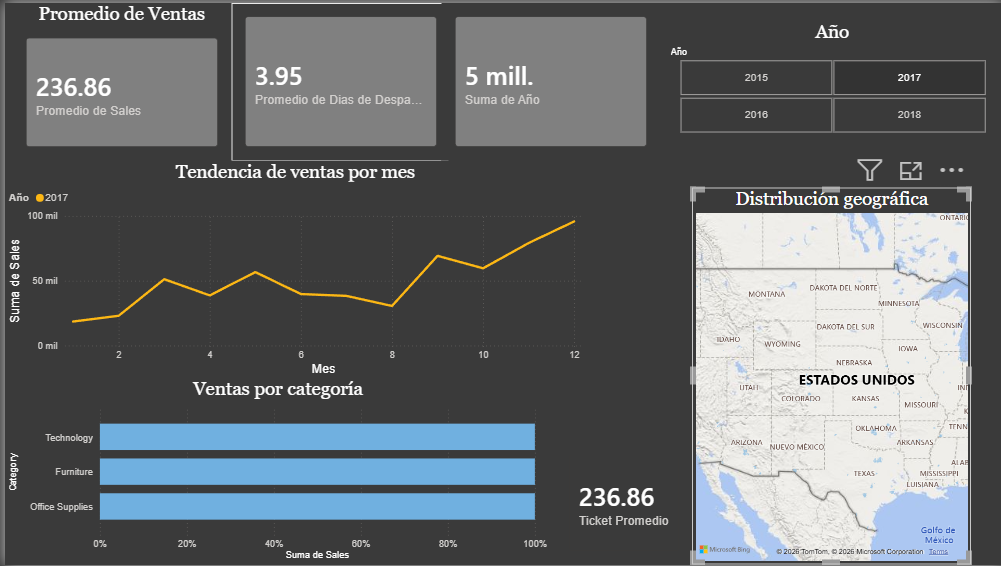

The page's visual inventory and layout, read from the dashboard file:
{"tool":"powerbi","page":{"name":"Página 1","canvas":[1280,720],"ordinal":0},"visuals":[{"type":"cardVisual","title":"Promedio de Ventas ","fields":{"Data":["Avg(ventas_limpio.Sales)"]},"box":[10,0,280,201.7],"z":0},{"type":"cardVisual","fields":{"Data":["Avg(ventas_limpio.Dias de Despacho)"]},"box":[290,0,280,201.7],"z":1000},{"type":"cardVisual","fields":{"Data":["Sum(ventas_limpio.Año)"]},"box":[560,0,280,201.7],"z":2000},{"type":"lineChart","title":"Tendencia de ventas por mes","fields":{"Category":["ventas_limpio.Mes"],"Y":["Sum(ventas_limpio.Sales)"],"Series":["ventas_limpio.Año"]},"box":[0,202,744.4,279.9],"z":3000},{"type":"hundredPercentStackedBarChart","title":"Ventas por categoría","fields":{"Category":["ventas_limpio.Category"],"Y":["Sum(ventas_limpio.Sales)"]},"box":[0,481.7,700,238.3],"z":4000},{"type":"slicer","title":"Año","fields":{"Values":["ventas_limpio.Año"]},"box":[839.8,23.9,440.6,149.5],"z":5000},{"type":"filledMap","title":"Distribución geográfica","fields":{"Category":["ventas_limpio.City"]},"box":[880,236.7,358.3,483.3],"z":5001},{"type":"cardVisual","fields":{"Data":["ventas_limpio.Ticket Promedio"]},"box":[705,561.7,175,158.3],"z":5002}]}

Visuals, with their boxes in screenshot pixels (x1, y1, x2, y2), scaled from the page's 1280x720 canvas onto the 1001x566 screenshot:
"Promedio de Ventas " cardVisual: rect(8, 0, 227, 159)
cardVisual - Avg(ventas_limpio.Dias de Despacho): rect(227, 0, 446, 159)
cardVisual - Sum(ventas_limpio.Año): rect(438, 0, 657, 159)
"Tendencia de ventas por mes" lineChart: rect(0, 159, 582, 379)
"Ventas por categoría" hundredPercentStackedBarChart: rect(0, 379, 547, 565)
"Año" slicer: rect(657, 19, 1000, 136)
"Distribución geográfica" filledMap: rect(688, 186, 968, 565)
cardVisual - ventas_limpio.Ticket Promedio: rect(551, 442, 688, 565)
